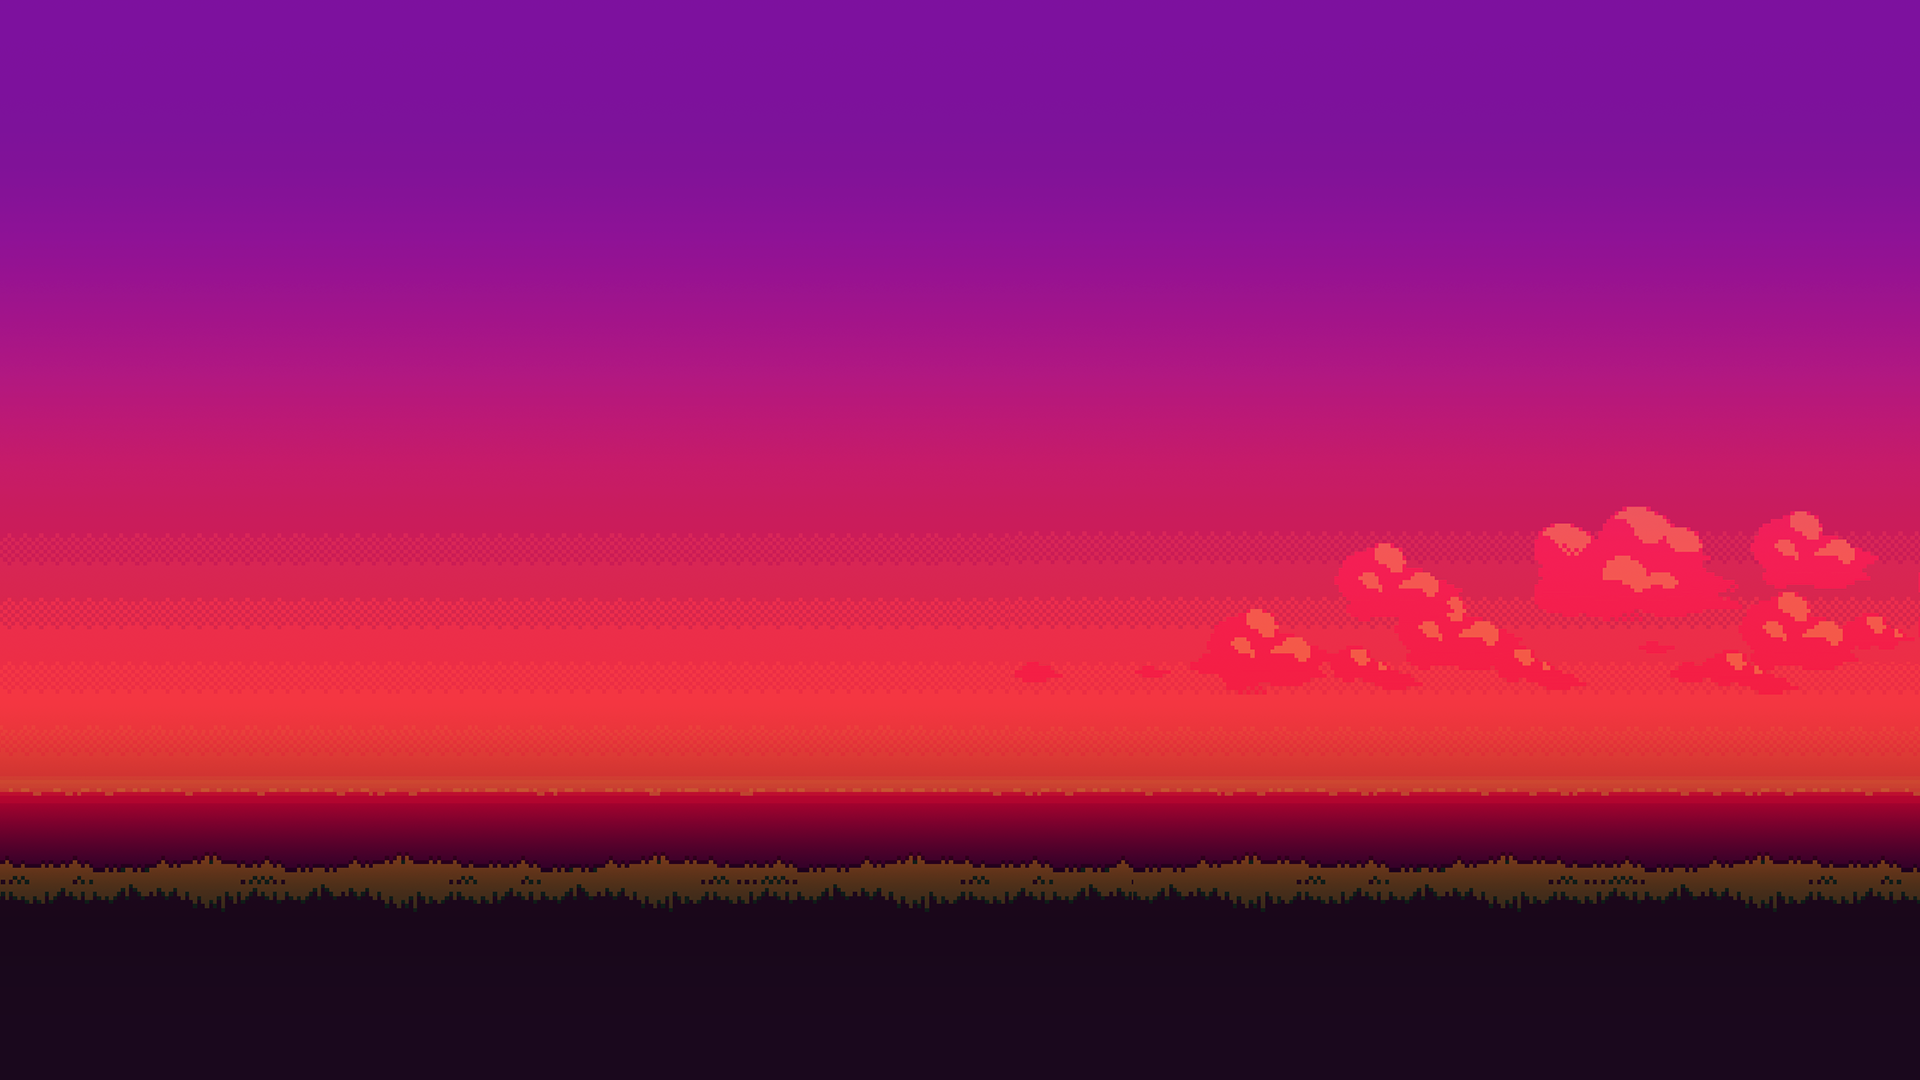beemonster: (1415, 260, 1462, 313), (1233, 100, 1280, 153)
character: (281, 618, 349, 688)
door: (1456, 46, 1553, 156)
ground: (3, 568, 225, 866), (1305, 708, 1604, 868), (650, 800, 1292, 868), (231, 699, 454, 866)
ground_empty: (7, 870, 1913, 1079)
ground_grass: (934, 585, 1327, 632), (196, 290, 589, 336), (440, 553, 818, 588), (1564, 322, 1853, 368), (1631, 527, 1920, 574), (1398, 164, 1789, 196), (738, 390, 1193, 418), (546, 153, 855, 177)
littlemonster: (1646, 454, 1693, 506), (1545, 640, 1592, 694), (775, 479, 822, 531), (938, 516, 984, 568)
monster: (1366, 647, 1408, 694), (1725, 105, 1767, 152), (530, 485, 572, 531), (704, 480, 746, 526), (1174, 479, 1215, 525)
shootmonster: (21, 500, 69, 553), (220, 218, 266, 272), (1851, 465, 1894, 512), (1077, 316, 1120, 363)
smallmonster: (1639, 100, 1681, 146), (673, 83, 713, 129)
wallmonster: (880, 318, 922, 364), (460, 214, 502, 258), (138, 505, 179, 551)
window: (1, 280, 560, 1077)
